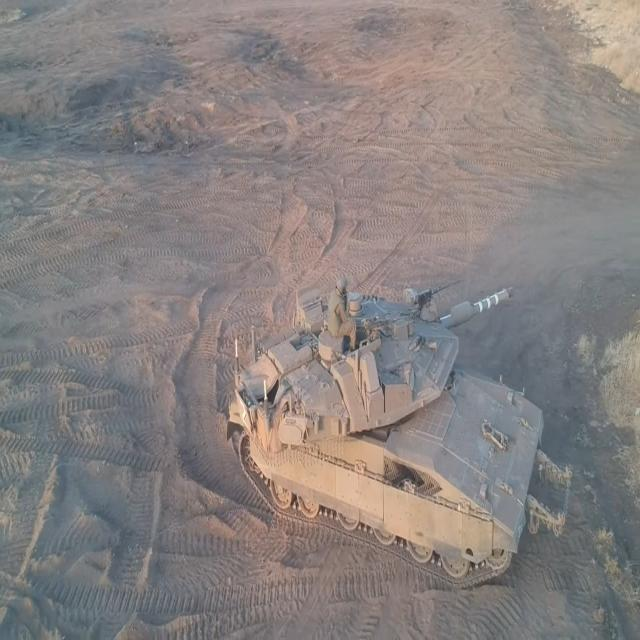tank: (224, 260, 577, 586)
